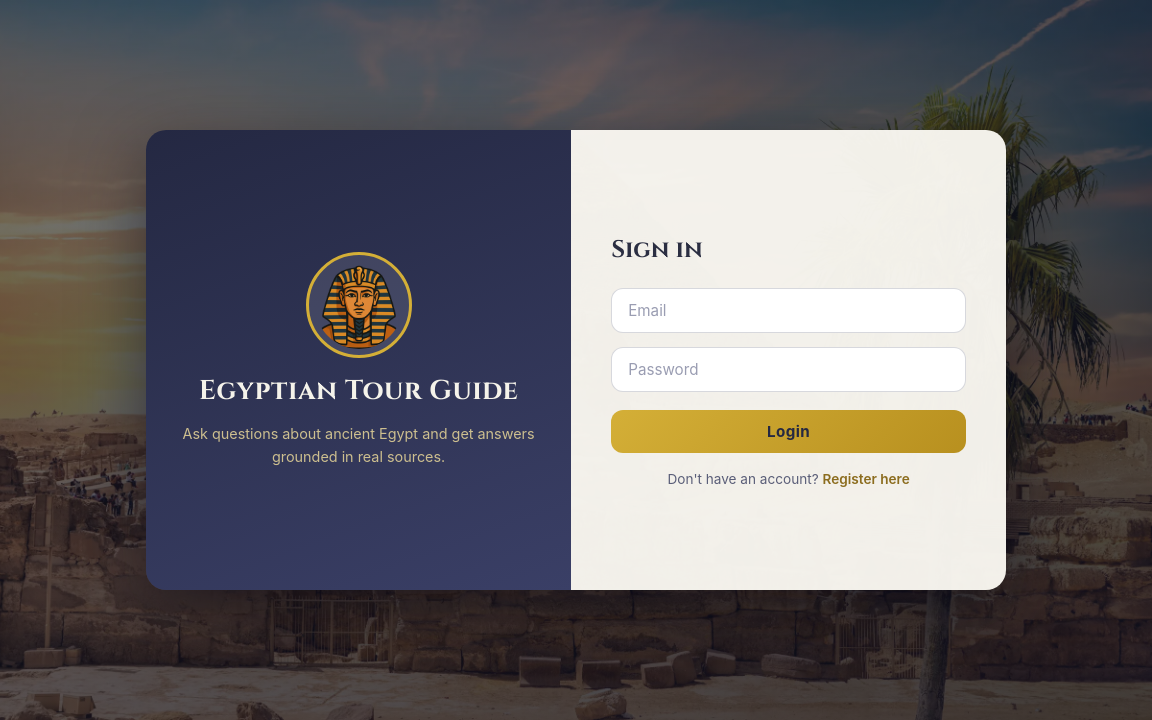
Test: Login › shows the server-provided message on a failed login
The image size is (1152, 720).
Type "user@example.com" into the field with placeholder "Email" at [789, 310], box [611,288,966,332]
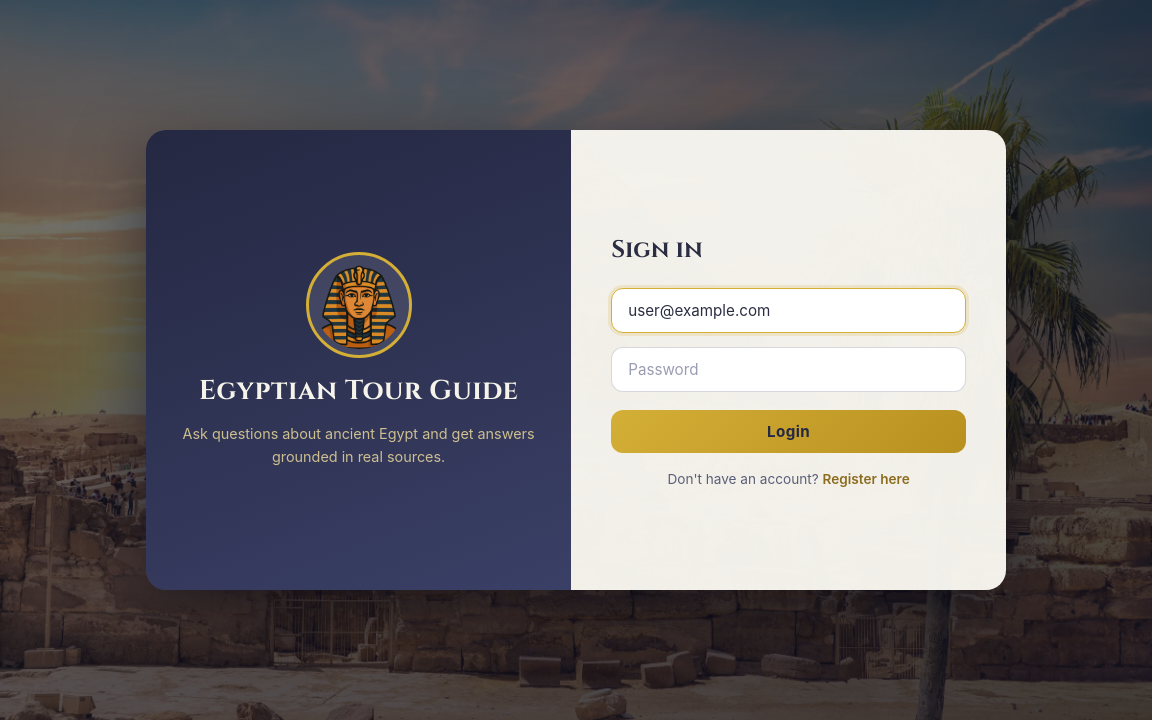
Type "wrong-pass" into the password field with placeholder "Password" at [789, 369], box [611,346,966,392]
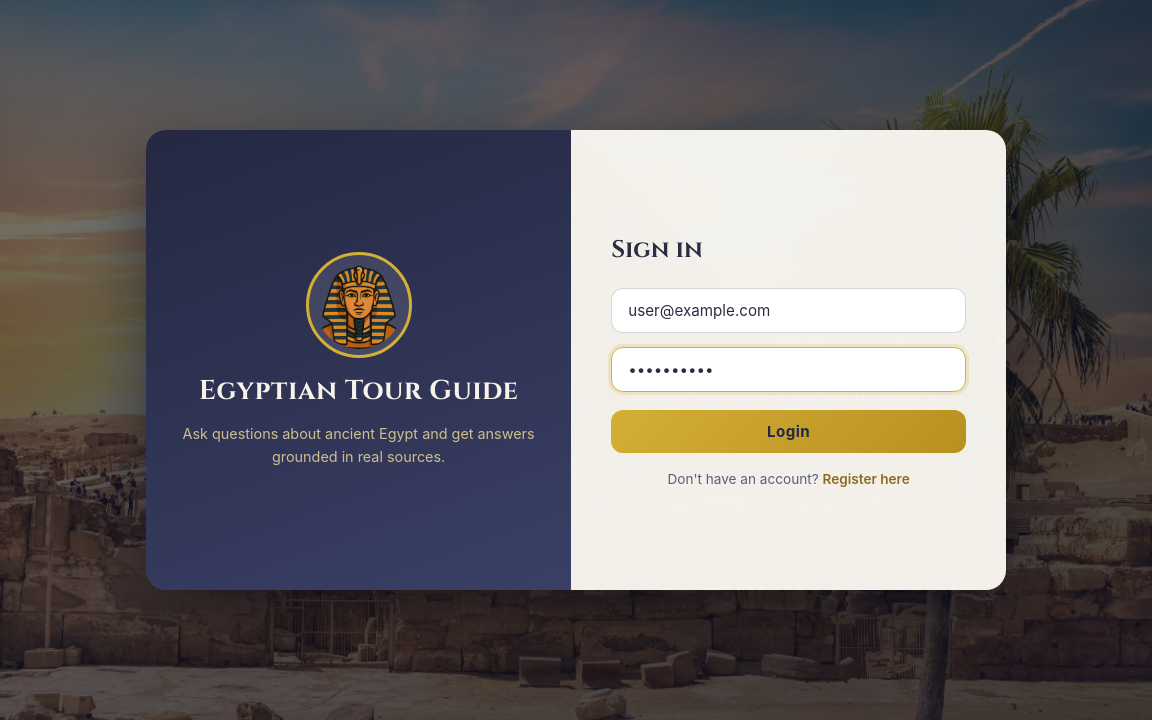
Click the button "Login" at [789, 431], box [611,410,966,452]
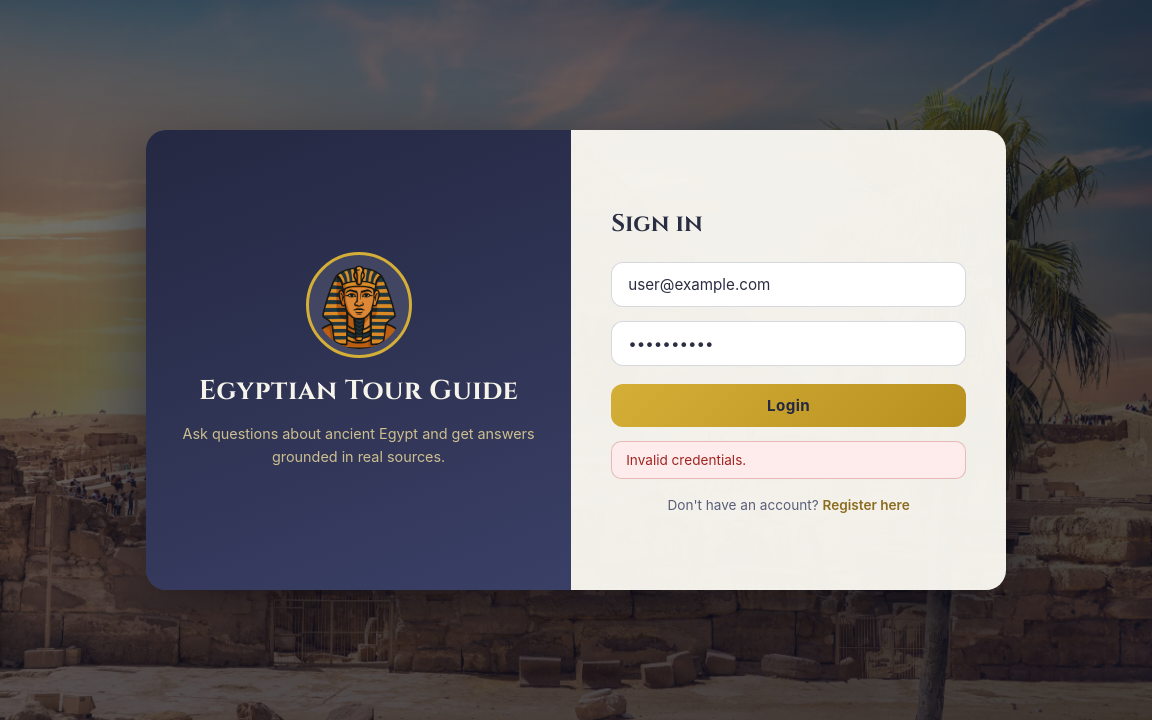
Expected: the message reads "Invalid credentials.", [626,452,746,468]
